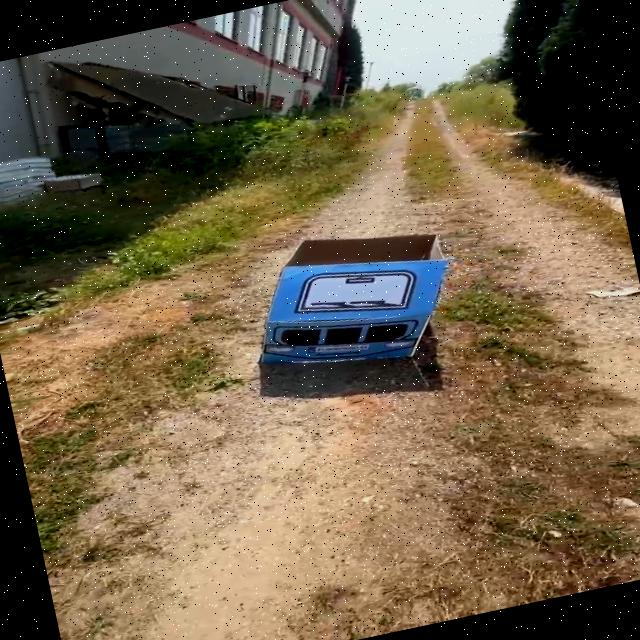blue_car: (206, 195, 482, 426)
